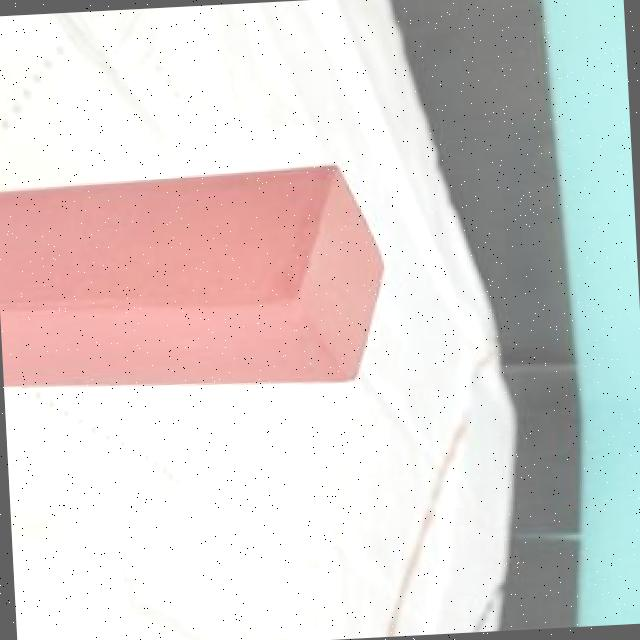redbox: (0, 163, 391, 400)
